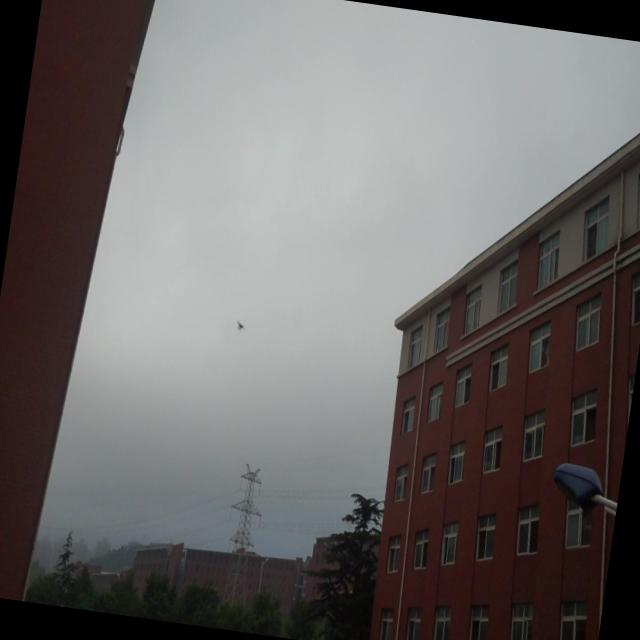drone: (232, 316, 248, 336)
